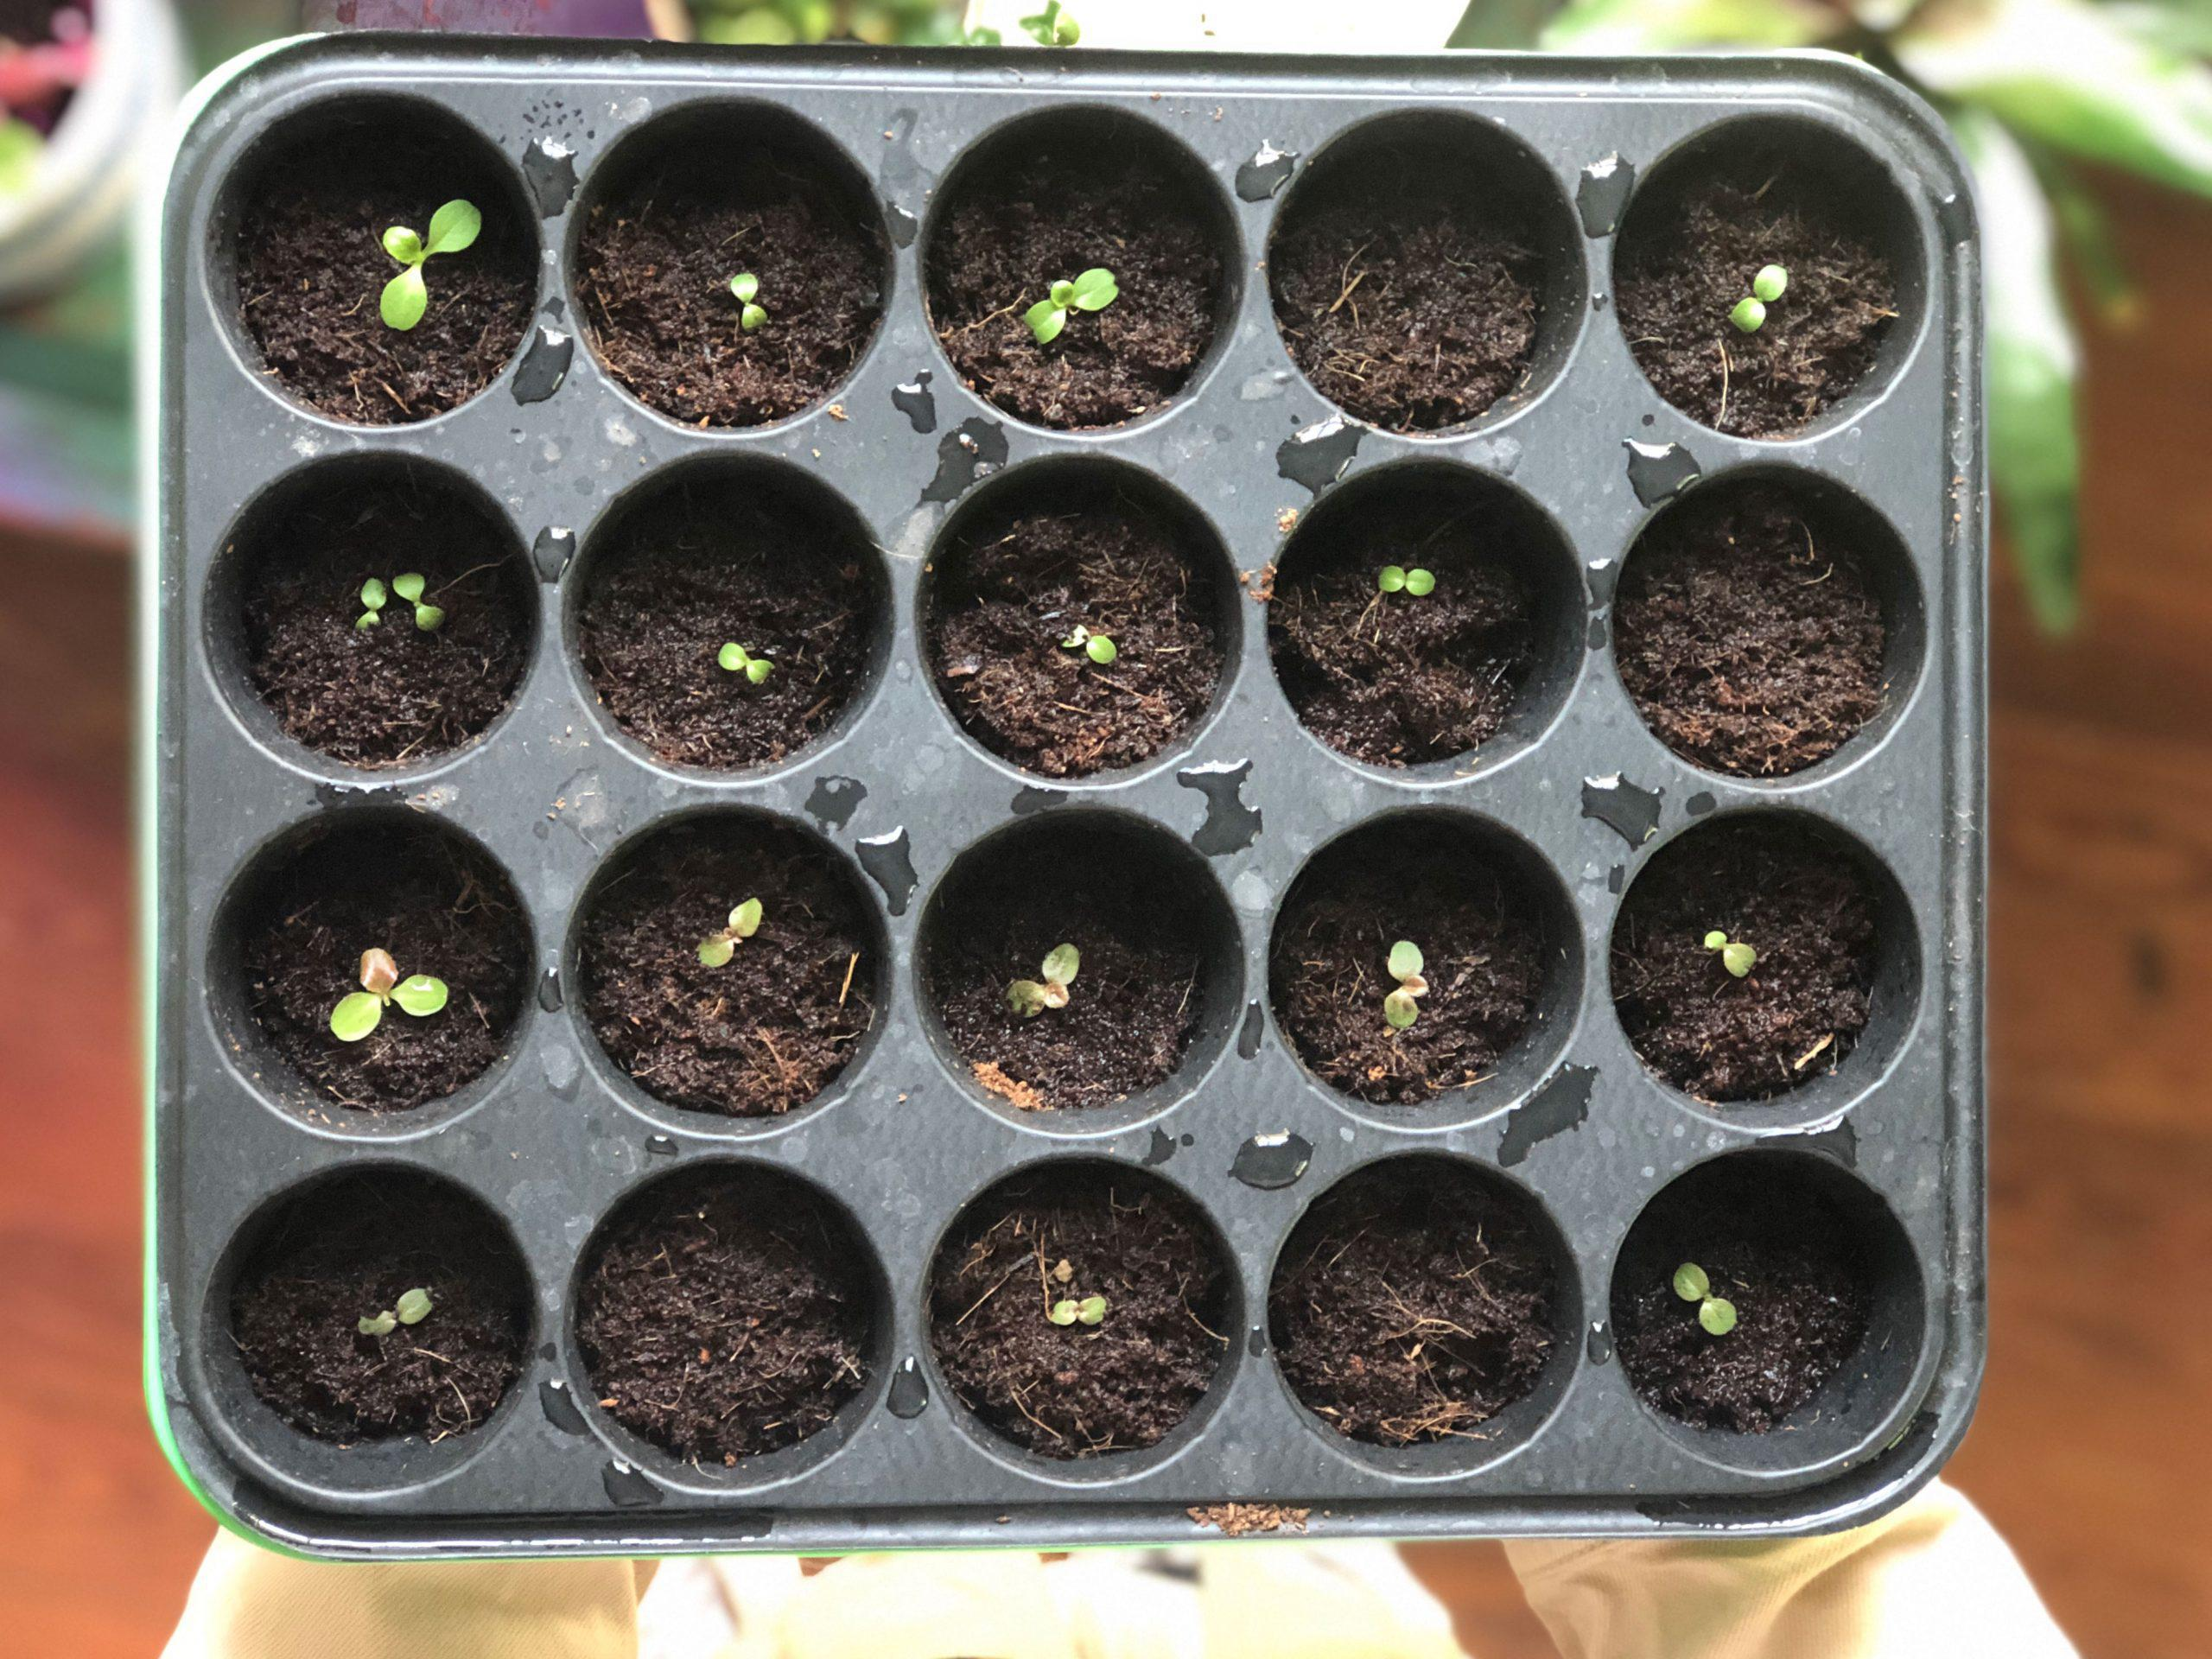GERMINATED: (291, 160, 511, 359), (969, 886, 1154, 1067), (978, 212, 1176, 380), (296, 531, 498, 691), (978, 1214, 1163, 1378), (304, 1236, 476, 1404), (1328, 505, 1499, 674), (1328, 886, 1482, 1071), (663, 203, 826, 372), (300, 916, 472, 1071), (1648, 868, 1819, 1024), (1695, 225, 1858, 385), (667, 570, 830, 726), (645, 873, 817, 1020), (1639, 1205, 1776, 1374), (1021, 562, 1167, 717)
